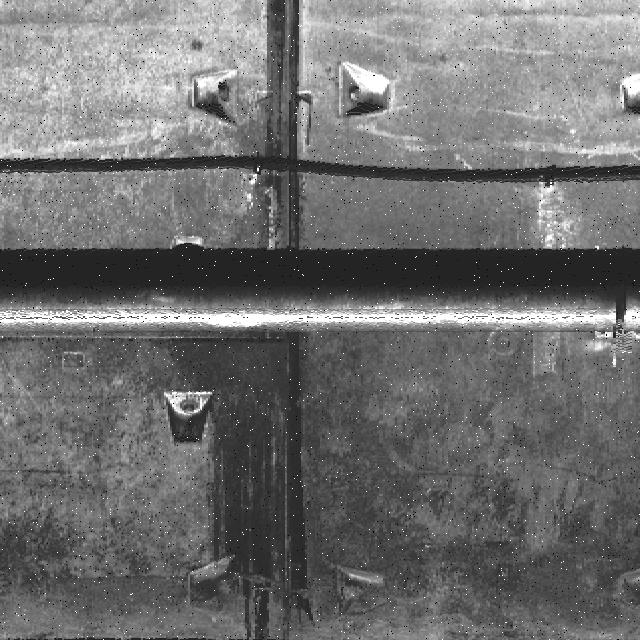leakage: (156, 338, 340, 638), (242, 1, 319, 259)
